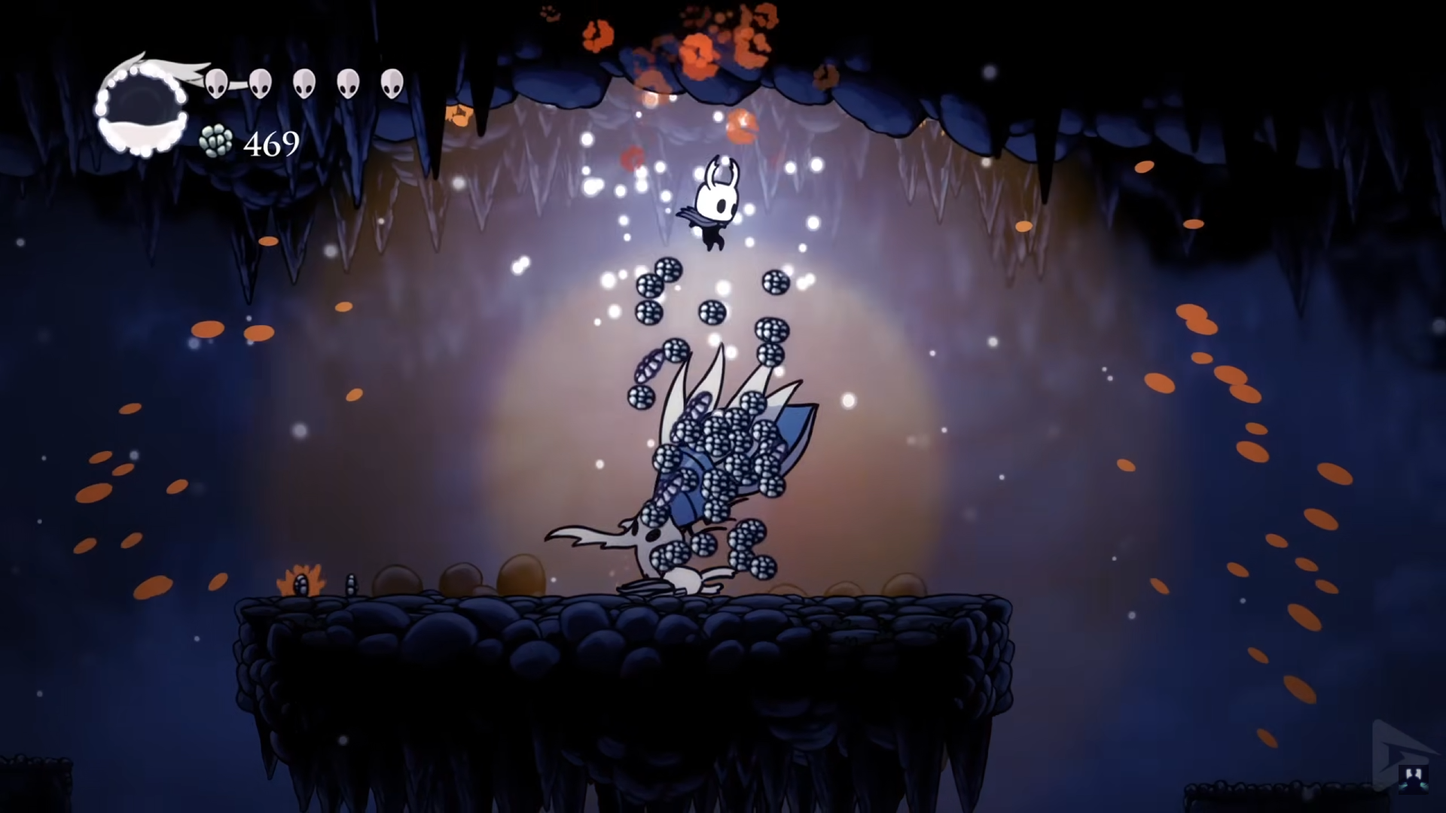HK: (678, 151, 749, 252)
